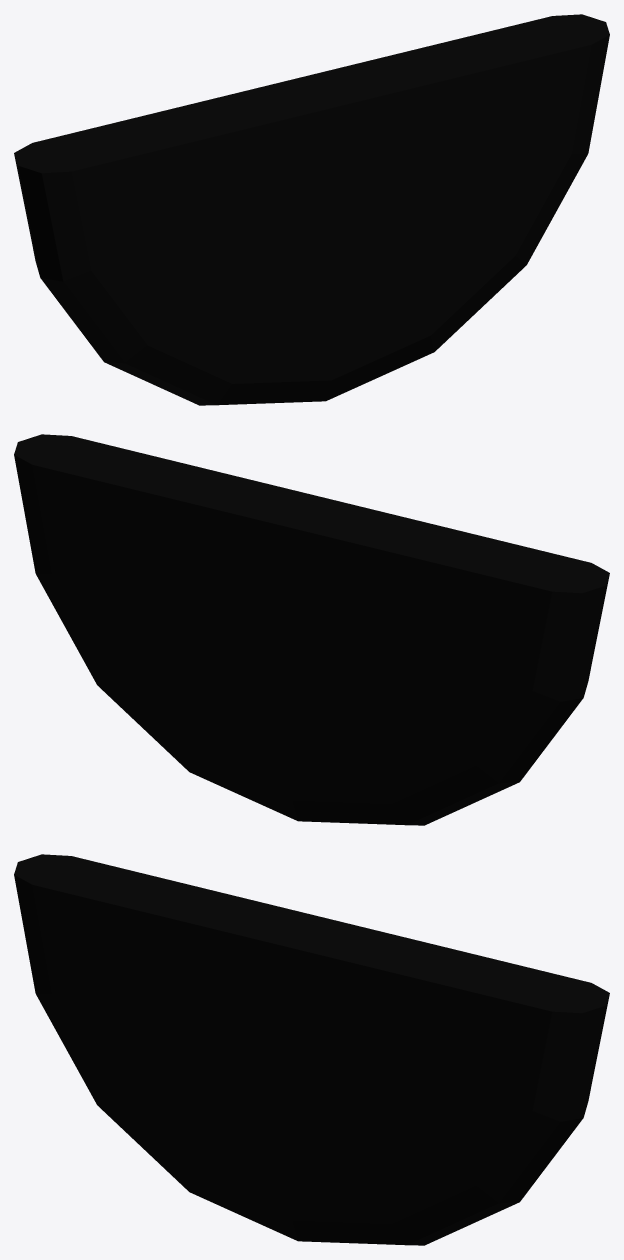
File: Mouth_MM_Open.fbx
The picture shows the model from 3 angles, top to bottom: view 1: azimuth 30°, elevation 25°; view 2: azimuth 150°, elevation 25°; view 3: azimuth 330°, elevation 25°; orthographic projection.
Parts seen in each view (by area): view 1: Cylinder; view 2: Cylinder; view 3: Cylinder.
Boxes of the visible parts, <box> form: Cylinder: <box>14,14,609,405</box>; Cylinder: <box>14,434,609,825</box>; Cylinder: <box>14,854,609,1245</box>.
Size of the model in its own units: 3.81 by 1.9 by 0.4407.
